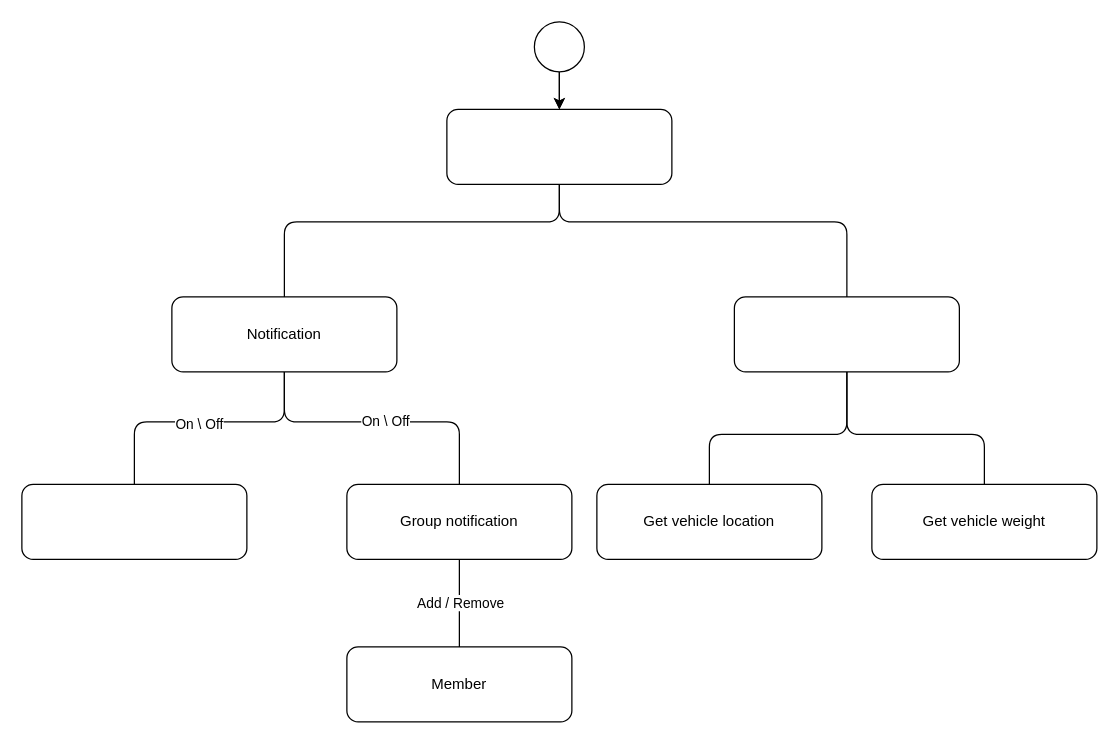
The diagram is 1119 pixels wide and 744 high, and some of its shapes have lost their labels. The shapes that lost their labels are listed below. From the top down, each one's centre as x and y in pixels, then its label:
At point (559, 146): "Log in".
At point (846, 334): "Check vehicle status".
At point (134, 521): "Push private notification".
